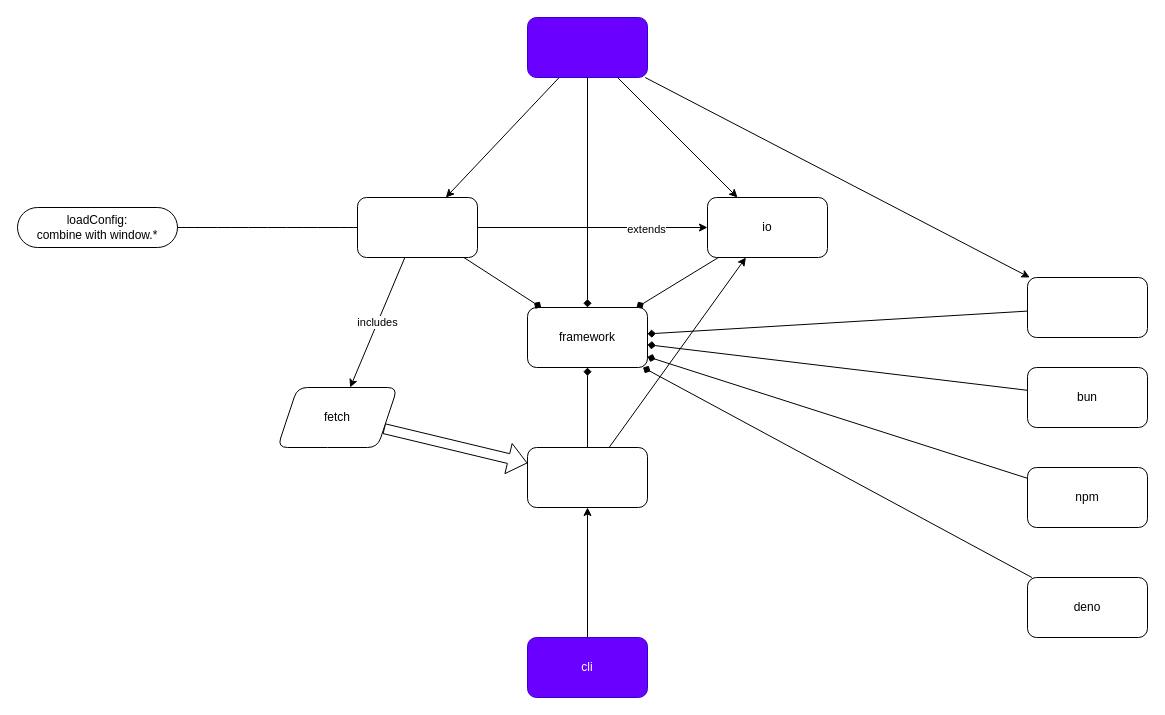
The diagram is 1165 pixels wide and 715 high, and some of its shapes have lost their labels. Here are the shapes that lost their labels. From the top down, the box of each, then its label:
(526, 16, 648, 78): mocktomata
(356, 196, 478, 258): io-remote
(1026, 276, 1148, 338): nodejs
(526, 446, 648, 508): service
